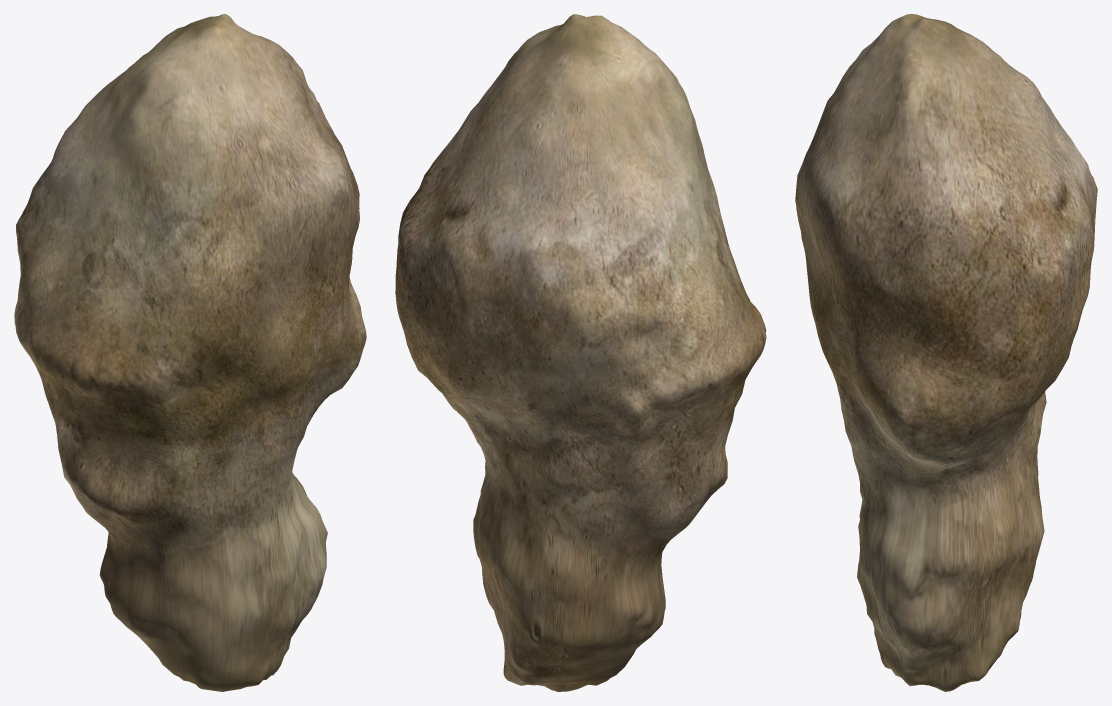
The model's file is toutatis.glb.
The picture shows the model from 3 angles, left to right: view 1: azimuth 30°, elevation 25°; view 2: azimuth 150°, elevation 25°; view 3: azimuth 270°, elevation 25°; orthographic projection. The views are drawn at different scales.
Visible parts, largest first — view 1: toutatis; view 2: toutatis; view 3: toutatis.
Part boxes in pixels (x1,y1,x2,y2): toutatis: (14,14,366,691); toutatis: (395,14,766,691); toutatis: (795,14,1097,691).
Size of the model in its own units: 2.28 by 4.59 by 1.92.
1 material, 1 textured.
